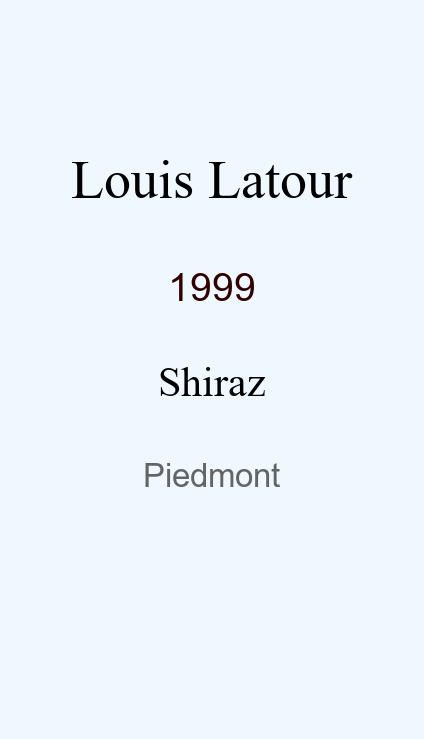brand: (71, 149, 353, 187)
region: (143, 457, 280, 481)
variety: (158, 358, 266, 387)
vintage: (168, 265, 256, 293)
